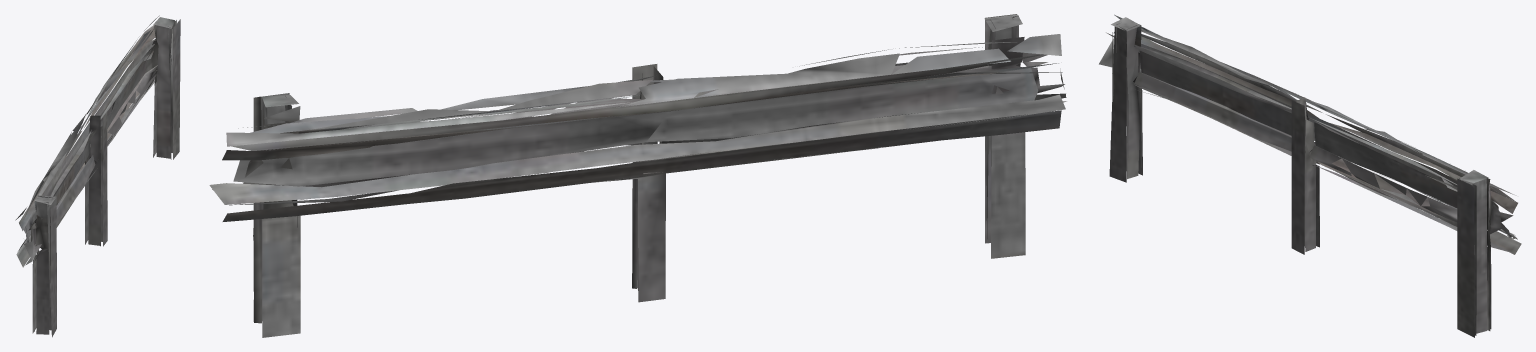
Rendered from kueste_leitplanke_lo.glb.
3 views of the same model, side by side, from view 1: azimuth 30°, elevation 25°; view 2: azimuth 150°, elevation 25°; view 3: azimuth 270°, elevation 25° (orthographic). The views are drawn at different scales.
Parts seen in each view (by area): view 1: Prop; view 2: Prop; view 3: Prop.
Part boxes in pixels (x1,y1,x2,y2): Prop: (15,15,180,337); Prop: (209,14,1066,337); Prop: (1099,14,1521,337).
Bounding box in the file's own units: 2.54 × 1 × 2.5.
1 material, 1 textured.
